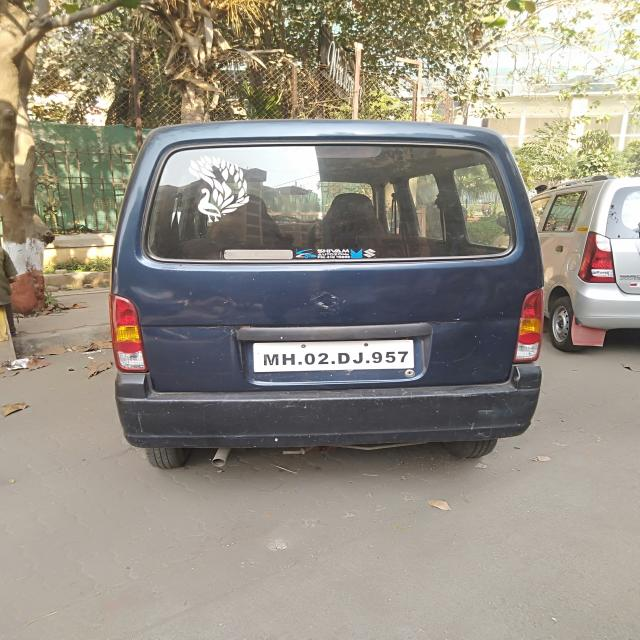Number-Plate: (257, 342, 417, 370)
